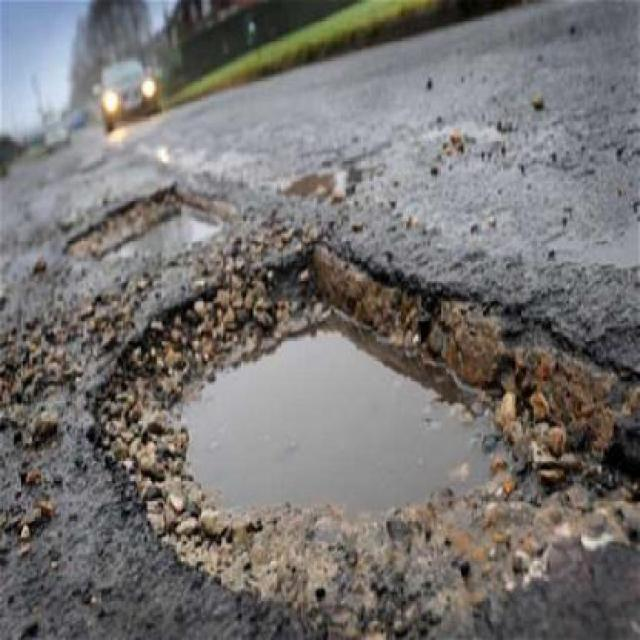Pothole: (82, 223, 638, 639), (63, 175, 237, 260)
